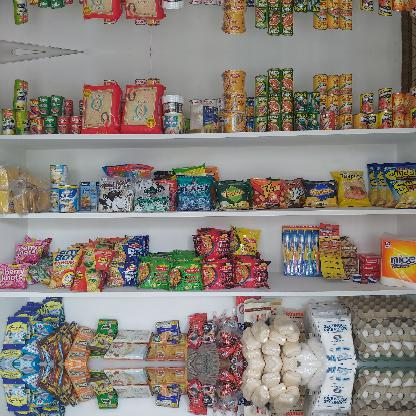Lady-s-Choice: (189, 104, 219, 132)
